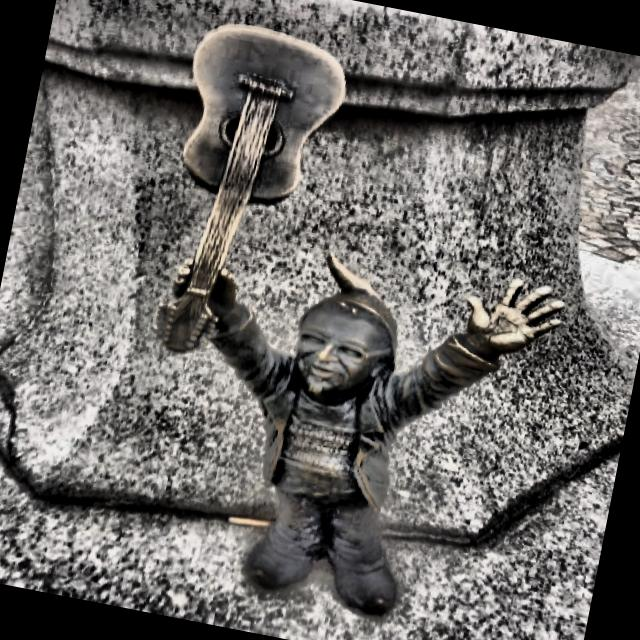Leszko_z_Wroclawia: (157, 26, 567, 619)
